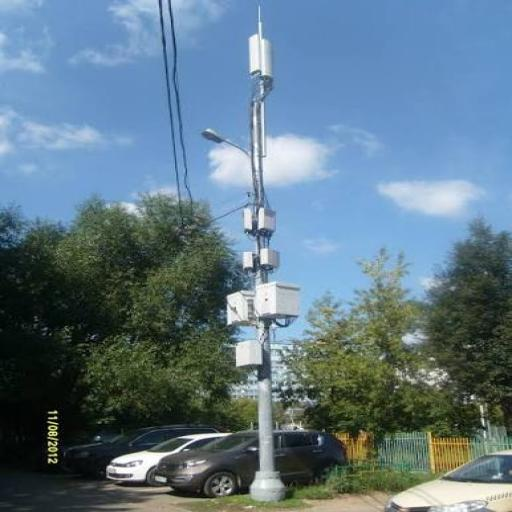odn_pole: (200, 6, 300, 503)
